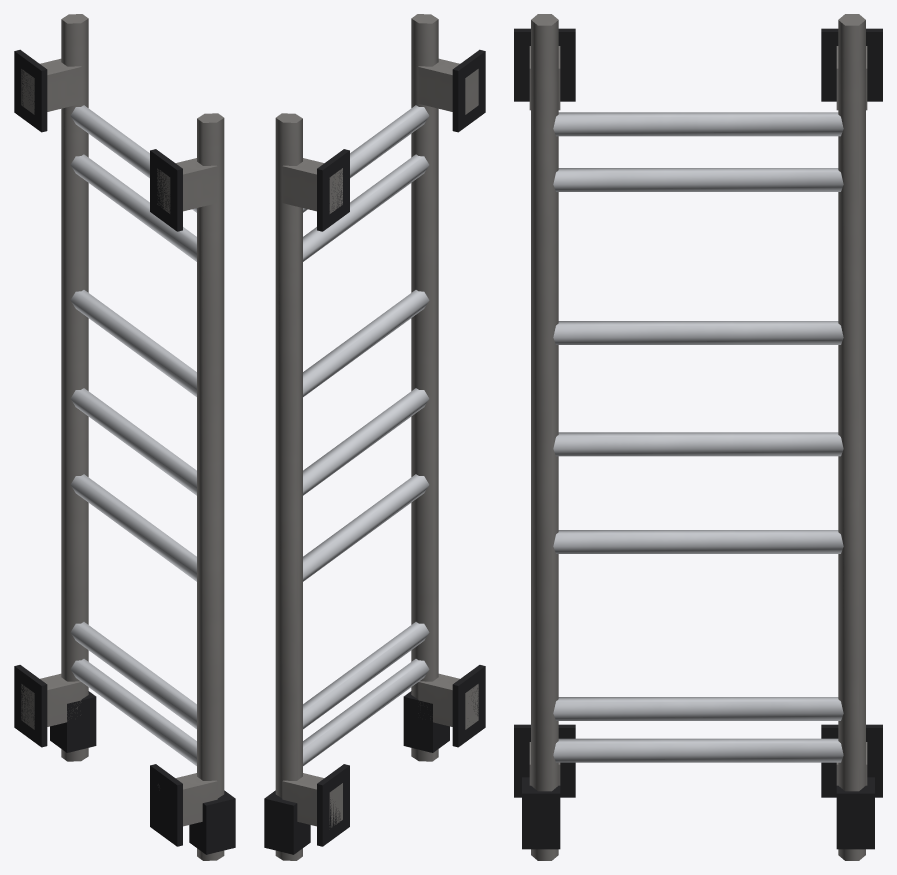
The model's file is struct03_ladder_handrail_telescoping.glb.
3 renders of one model, left to right at view 1: azimuth 30°, elevation 25°; view 2: azimuth 150°, elevation 25°; view 3: azimuth 270°, elevation 25°, orthographic. The views are drawn at different scales.
Parts seen in each view (by area): view 1: ladder_upper_stringers, ladder_lower_stringers, ladder_upper_rungs, ladder_lower_rungs, mount_pads, standoffs, ladder_lower_guides; view 2: ladder_upper_stringers, ladder_lower_stringers, ladder_upper_rungs, ladder_lower_rungs, standoffs, mount_pads, ladder_lower_guides; view 3: ladder_upper_stringers, ladder_lower_stringers, ladder_upper_rungs, ladder_lower_rungs, mount_pads, ladder_lower_guides, standoffs.
Part boxes in pixels (box(x1,y1,x2,y2)): ladder_upper_stringers: box(61, 14, 224, 860); ladder_lower_stringers: box(61, 44, 224, 798); ladder_upper_rungs: box(70, 105, 196, 765); ladder_lower_rungs: box(70, 154, 196, 729); mount_pads: box(14, 49, 182, 846); standoffs: box(21, 58, 217, 826); ladder_lower_guides: box(50, 691, 235, 854); ladder_upper_stringers: box(275, 14, 438, 860); ladder_lower_stringers: box(275, 43, 438, 797); ladder_upper_rungs: box(303, 105, 429, 765); ladder_lower_rungs: box(303, 154, 429, 729); standoffs: box(282, 58, 478, 827); mount_pads: box(317, 49, 485, 846); ladder_lower_guides: box(264, 691, 449, 854); ladder_upper_stringers: box(531, 14, 865, 860); ladder_lower_stringers: box(531, 48, 865, 791); ladder_upper_rungs: box(553, 112, 843, 762); ladder_lower_rungs: box(553, 168, 843, 720); mount_pads: box(514, 28, 882, 797); ladder_lower_guides: box(522, 777, 874, 849); standoffs: box(529, 46, 867, 785).
Bounding box in the file's own units: 0.105 × 1.2 × 0.48.
Materials: 3 (2 with a texture image).
